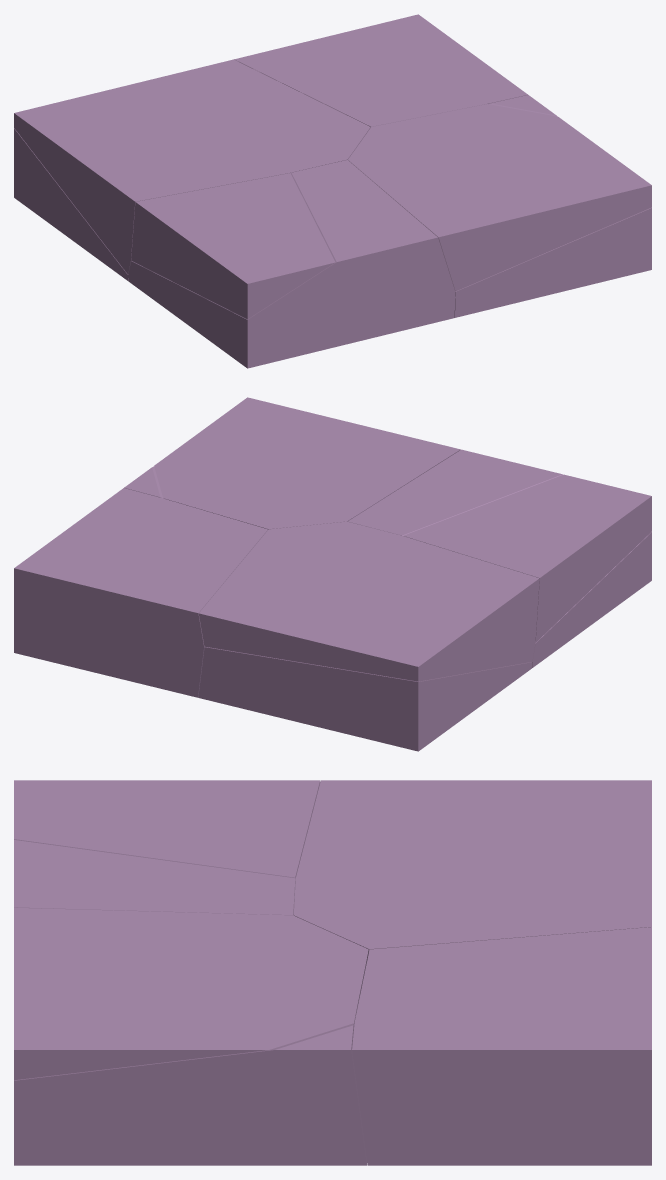
File: BreakBlock_01_crack2.fbx
The picture shows the model from 3 angles, top to bottom: view 1: azimuth 30°, elevation 25°; view 2: azimuth 150°, elevation 25°; view 3: azimuth 270°, elevation 25°; orthographic projection. The views are drawn at different scales.
Parts seen in each view (by area): view 1: Cube_cell.018, Cube_cell.016, Cube_cell.021, Cube_cell.020, Cube_cell.015, Cube_cell.017, Cube_cell.019; view 2: Cube_cell.018, Cube_cell.015, Cube_cell.016, Cube_cell.020, Cube_cell.019, Cube_cell.021, Cube_cell.017; view 3: Cube_cell.015, Cube_cell.018, Cube_cell.016, Cube_cell.017, Cube_cell.020, Cube_cell.021.
Boxes of the visible parts, x1,y1,x2,y2 form: Cube_cell.018: (14,59,370,274); Cube_cell.016: (348,104,651,291); Cube_cell.021: (128,160,455,368); Cube_cell.020: (131,173,335,319); Cube_cell.015: (234,14,527,127); Cube_cell.017: (454,95,651,317); Cube_cell.019: (14,128,128,280); Cube_cell.018: (198,521,539,681); Cube_cell.015: (14,488,267,697); Cube_cell.016: (154,397,460,529); Cube_cell.020: (403,474,651,642); Cube_cell.019: (198,647,532,751); Cube_cell.021: (348,449,651,667); Cube_cell.017: (124,466,163,498); Cube_cell.015: (352,927,651,1165); Cube_cell.018: (294,780,651,965); Cube_cell.016: (14,907,368,1080); Cube_cell.017: (14,995,366,1165); Cube_cell.020: (14,780,320,877); Cube_cell.021: (14,839,295,915).
Bounding box in the file's own units: 200 × 40 × 200.
